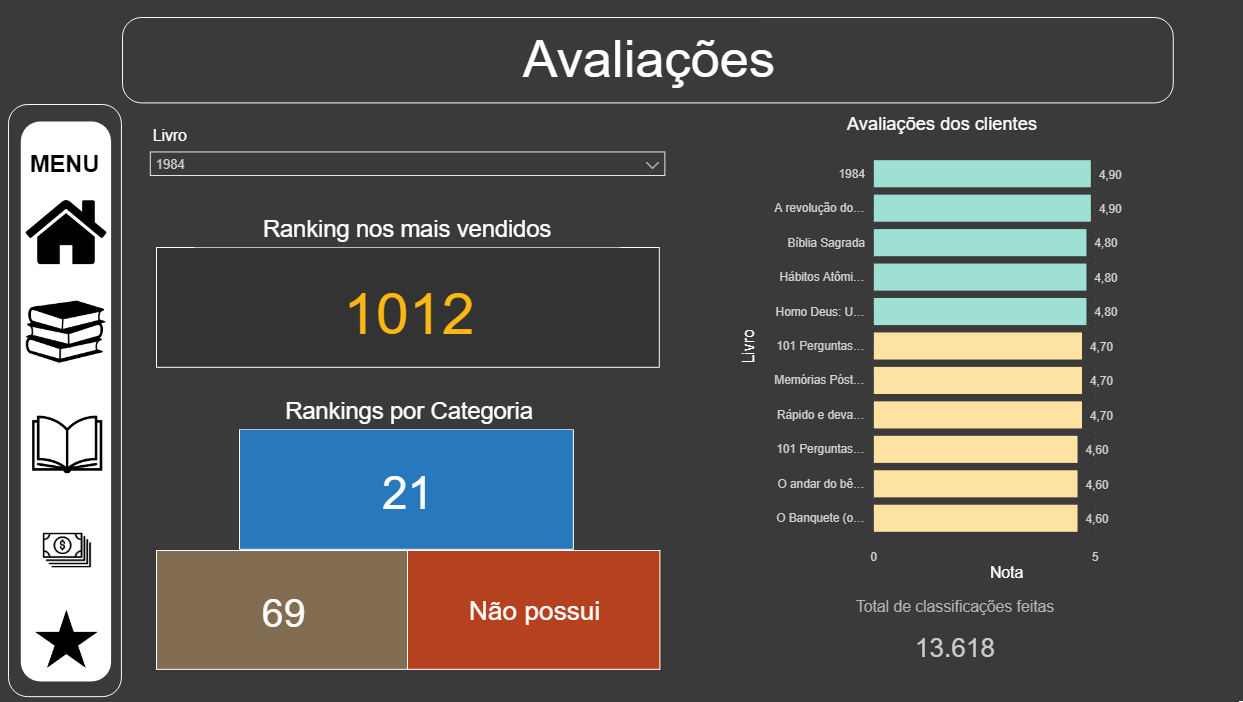

What the dashboard file says about the page in this screenshot:
{"tool":"powerbi","page":{"name":"Avaliações","canvas":[1280,720],"ordinal":4},"visuals":[{"type":"basicShape","title":"Menu","box":[11.4,108.3,116.3,604.1],"z":0},{"type":"textbox","box":[21.7,149.3,94.6,66.1],"z":1000},{"type":"image","box":[22.8,410.3,96.9,87.8],"z":2000},{"type":"image","box":[5.7,610.9,127.7,83.2],"z":3000},{"type":"image","box":[19.4,294.1,100.3,91.2],"z":4000},{"type":"image","box":[16,192.6,107.1,92.3],"z":5000},{"type":"image","box":[6.8,508.4,126.5,108.3],"z":6000},{"type":"textbox","box":[127.8,19.4,1071.2,87.8],"z":7000},{"type":"slicer","fields":{"Values":["Books Info.Livro"]},"box":[145.9,126.4,544.7,66.1],"z":8000},{"type":"clusteredBarChart","title":"Avaliações dos clientes","fields":{"Y":["Sum(Books Info.Avaliações dos clientes)"],"Category":["Books Info.Livro"]},"box":[752.5,117.1,419.5,481.7],"z":9000},{"type":"card","fields":{"Values":["Max(Books Info.Ranking Categoria Principal)"]},"box":[246.4,438.9,341.1,123.2],"z":10000},{"type":"card","fields":{"Values":["Min(Books Info.Ranking Categoria 2)"]},"box":[161.9,562.1,257.6,122.2],"z":11000},{"type":"card","fields":{"Values":["Min(Books Info.Ranking Categoria 3)"]},"box":[417.5,562.1,257.6,122.2],"z":12000},{"type":"textbox","box":[202.3,400.7,433.8,37.9],"z":13000},{"type":"card","title":"Total de classificações feitas","fields":{"Values":["Min(Books Info.Classificações)"]},"box":[752.5,611,446,84.5],"z":14000},{"type":"card","title":"Ranking dos mais vendidos","fields":{"Values":["Min(Books Info.Ranking dos mais vendidos)"]},"box":[161.9,253.6,513.2,123.2],"z":14001},{"type":"textbox","box":[200.4,215.9,433.8,37.9],"z":14002}]}

Visuals, with their boxes in screenshot pixels (x1, y1, x2, y2), scaled from the page's 1280x720 canvas onto the 1243x702 screenshot:
"Menu" basicShape: Rect(11, 106, 124, 695)
textbox: Rect(21, 146, 113, 210)
image: Rect(22, 400, 116, 486)
image: Rect(6, 596, 130, 677)
image: Rect(19, 287, 116, 376)
image: Rect(16, 188, 120, 278)
image: Rect(7, 496, 129, 601)
textbox: Rect(124, 19, 1164, 105)
slicer - Books Info.Livro: Rect(142, 123, 671, 188)
"Avaliações dos clientes" clusteredBarChart: Rect(731, 114, 1138, 584)
card - Max(Books Info.Ranking Categoria Principal): Rect(239, 428, 571, 548)
card - Min(Books Info.Ranking Categoria 2): Rect(157, 548, 407, 667)
card - Min(Books Info.Ranking Categoria 3): Rect(405, 548, 656, 667)
textbox: Rect(196, 391, 618, 428)
"Total de classificações feitas" card: Rect(731, 596, 1164, 678)
"Ranking dos mais vendidos" card: Rect(157, 247, 656, 367)
textbox: Rect(195, 211, 616, 247)
